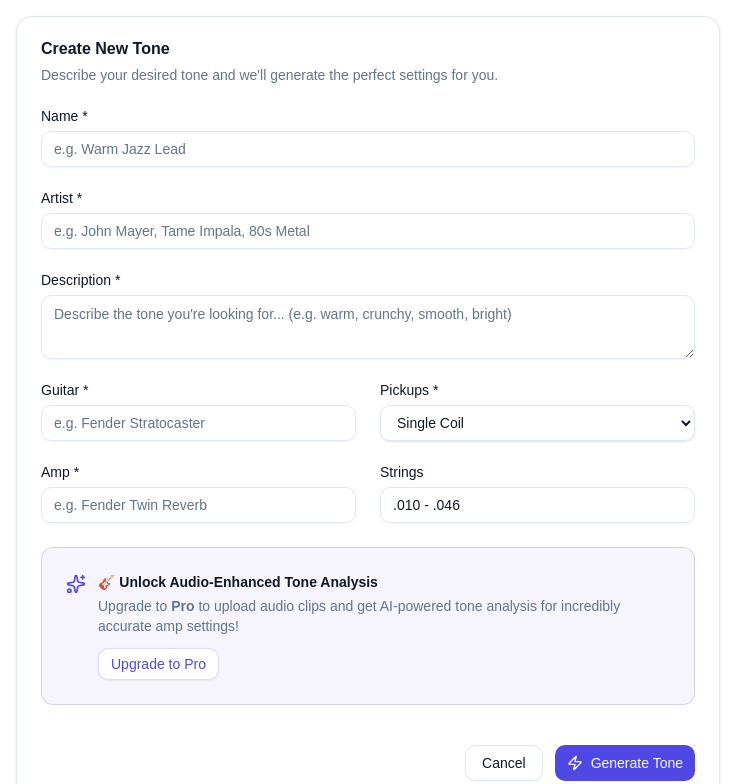
Test: ToneForm › shows error message when API returns 403 (credits exhausted)
Type "Test" into the field labelled "Name *" at [368, 149], box [41,131,695,167]
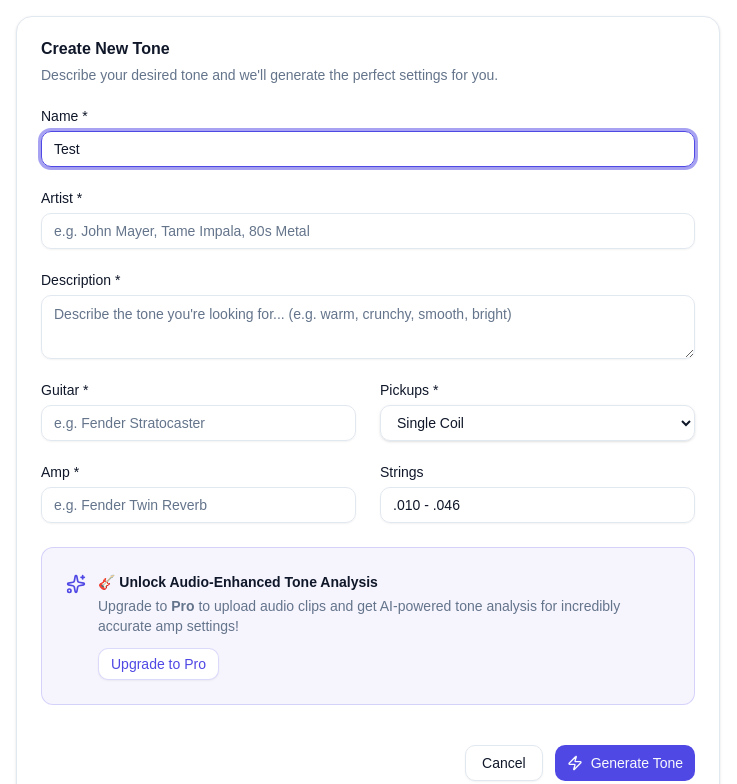
Type "Test" into the field labelled "Artist *" at [368, 231], box [41,213,695,249]
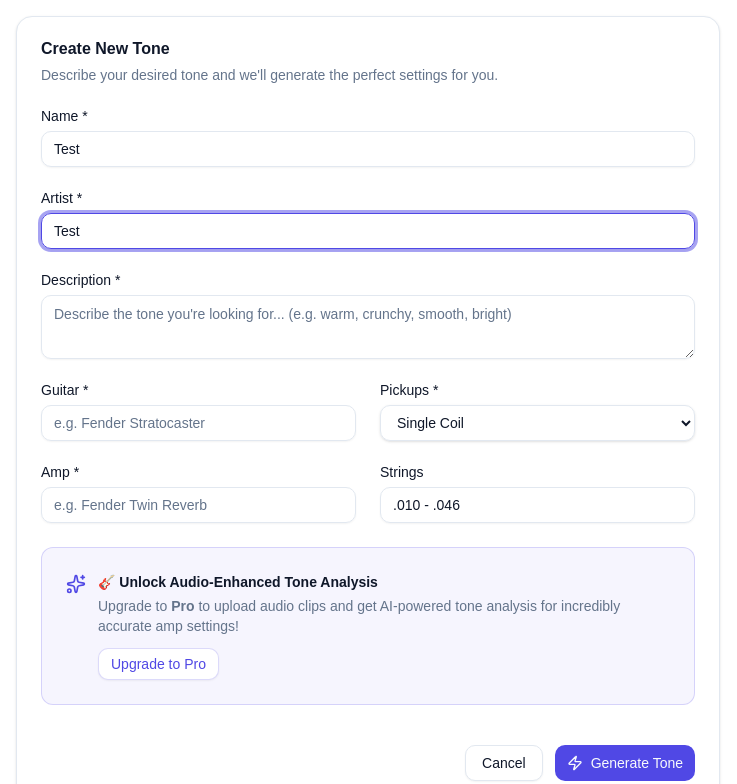
Type "Test description here" into the text box labelled "Description *" at [368, 327], box [41,295,695,359]
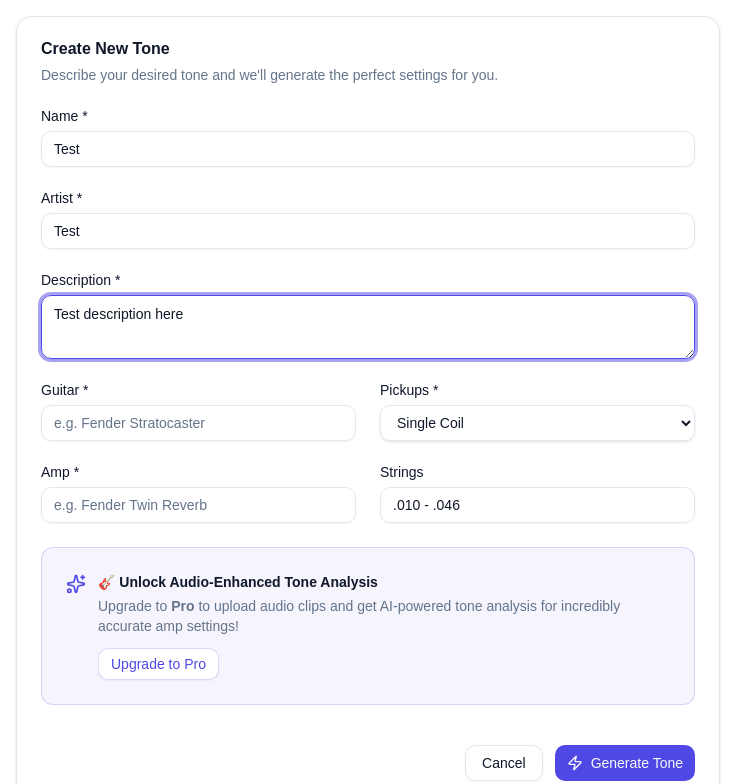
Type "Test" into the field labelled "Guitar *" at [198, 423], box [41,405,356,441]
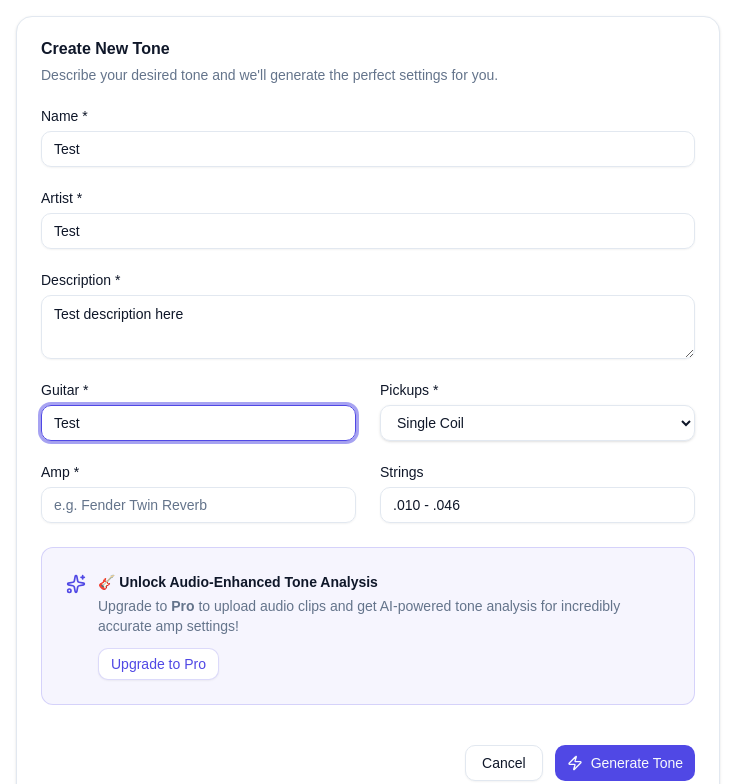
Type "Test" into the field labelled "Amp *" at [198, 505], box [41,487,356,523]
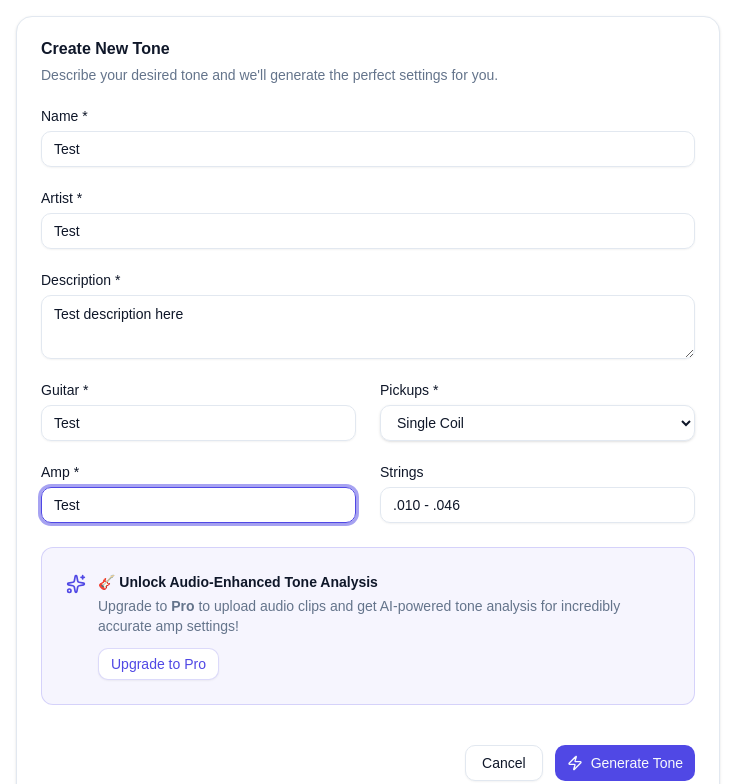
Click the button "Generate Tone" at [625, 763], box [555,745,695,781]
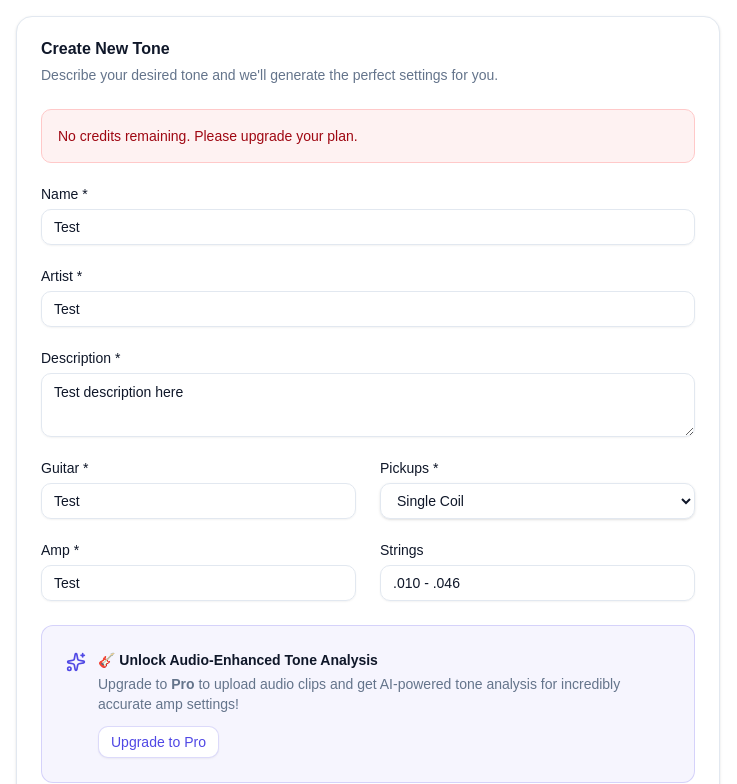
Expected: the text "No credits remaining. Please upgrade your plan." is shown, [41,109,695,163]
